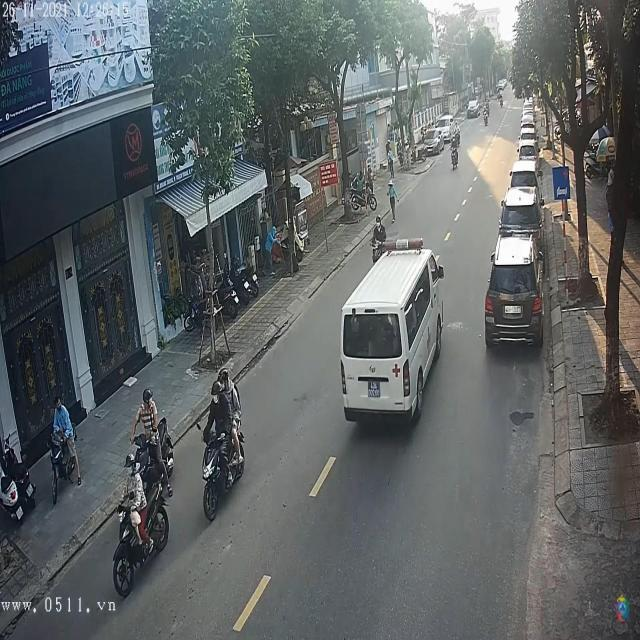car: (341, 247, 444, 423), (486, 232, 544, 348), (424, 126, 447, 154)
motorcycle: (109, 480, 171, 602), (198, 416, 246, 524)
